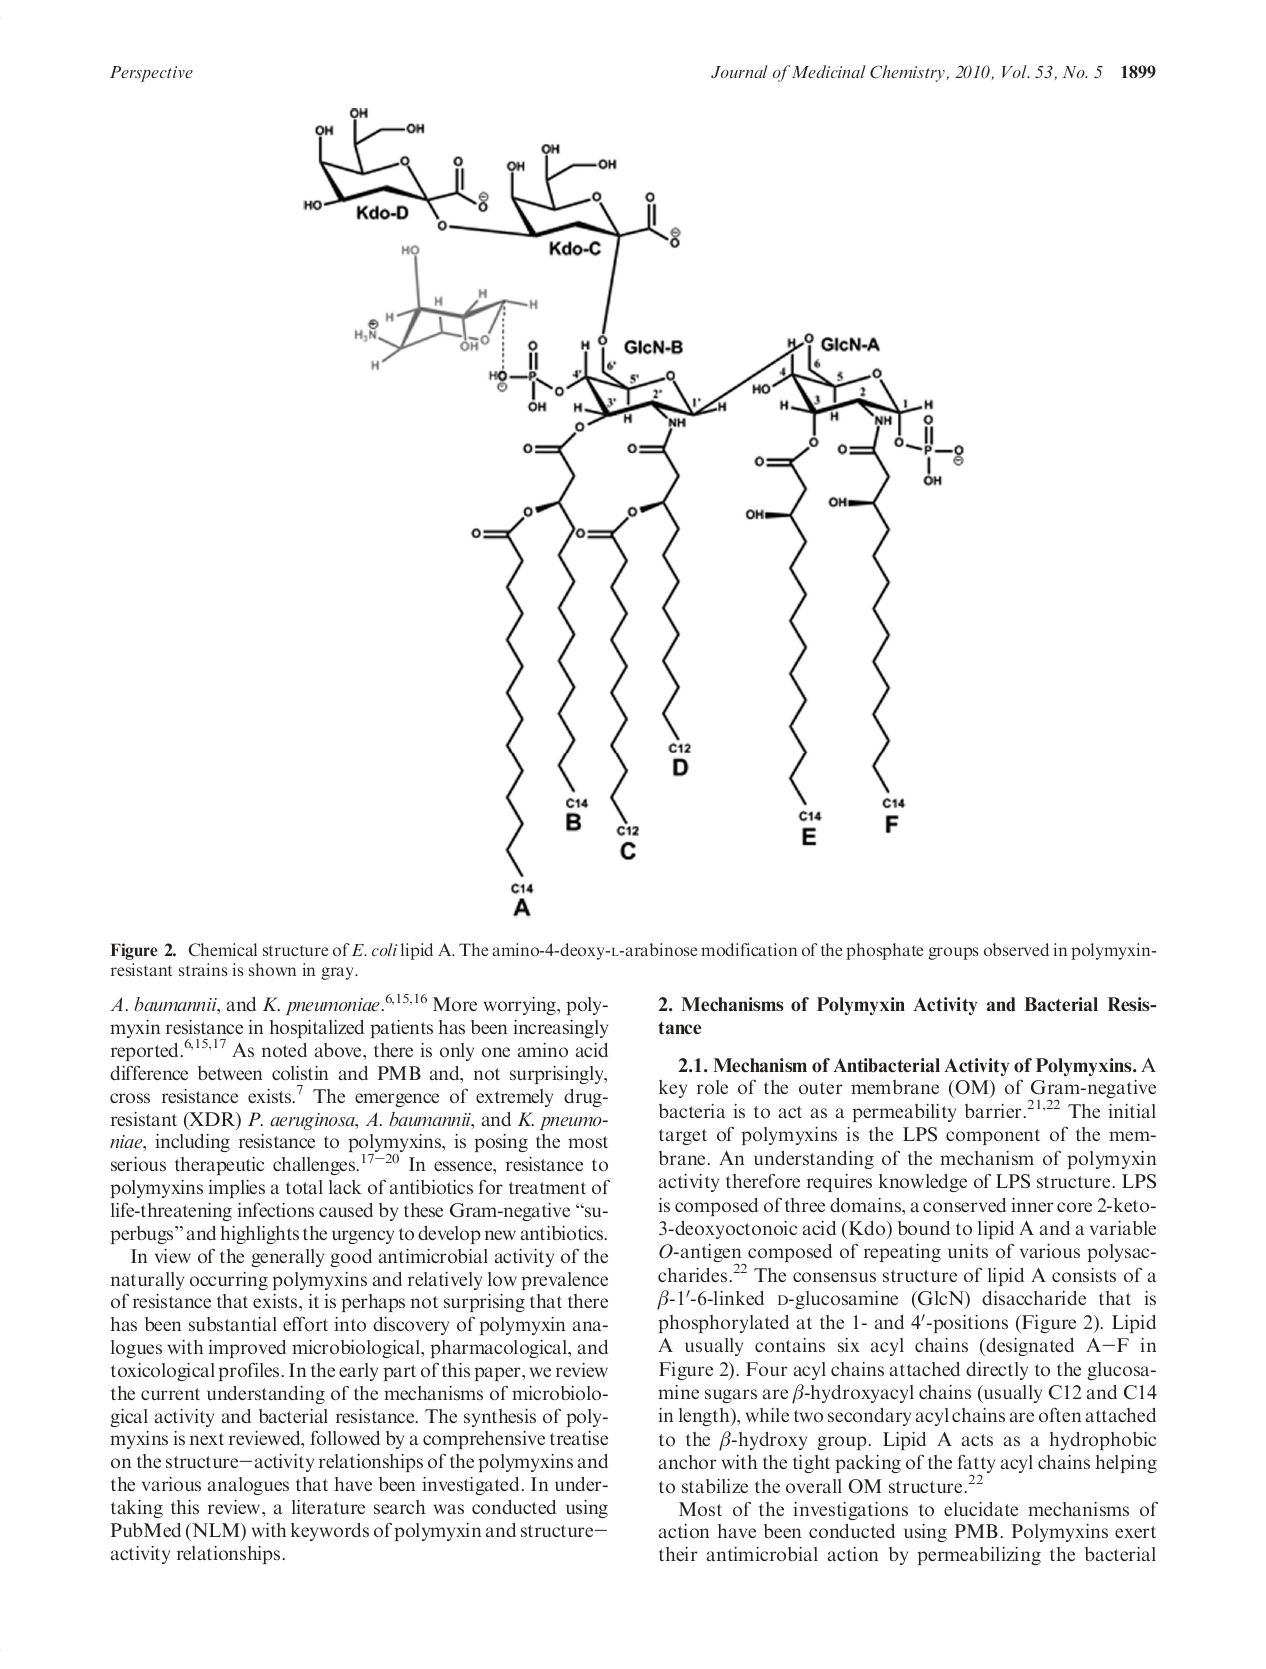exist_molecular: (297, 102, 968, 896)
